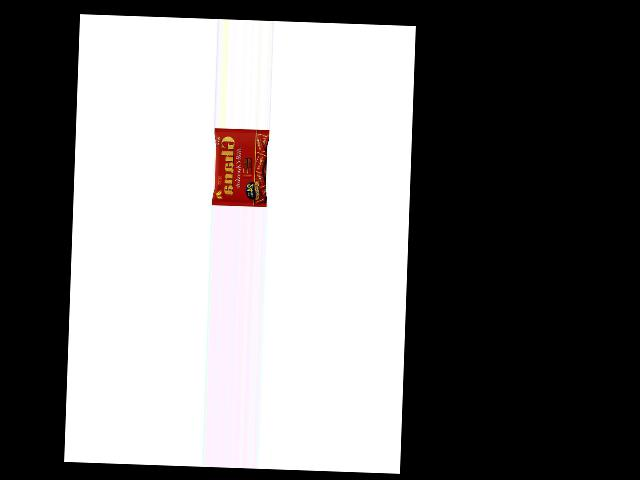chocolate: (213, 129, 271, 208)
